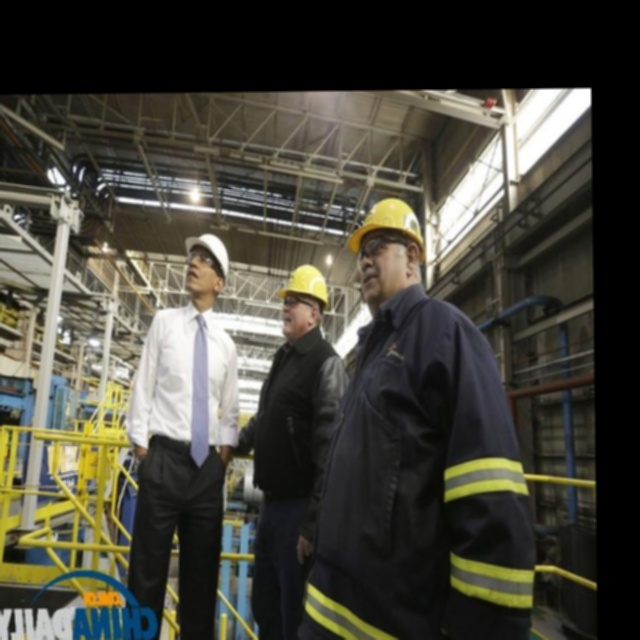Con_Casco: (347, 200, 425, 298), (183, 233, 231, 301)
Sin_Chaleco: (130, 309, 245, 451)
